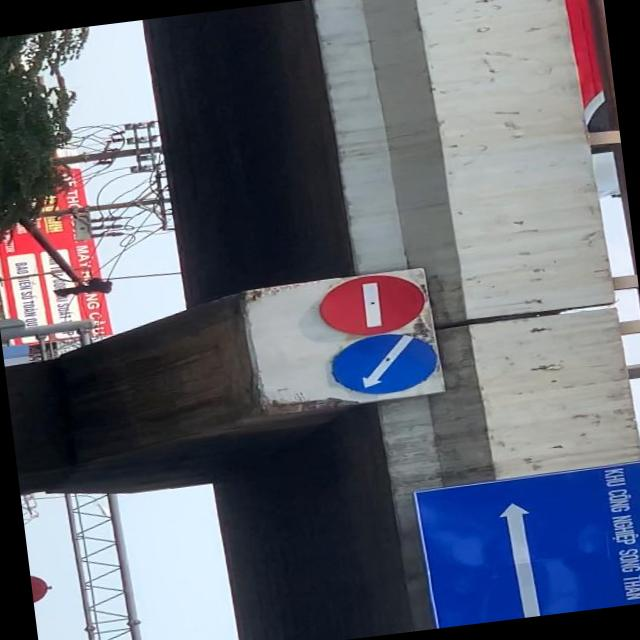P-102: (317, 270, 430, 340)
R-302a: (326, 328, 443, 402)
